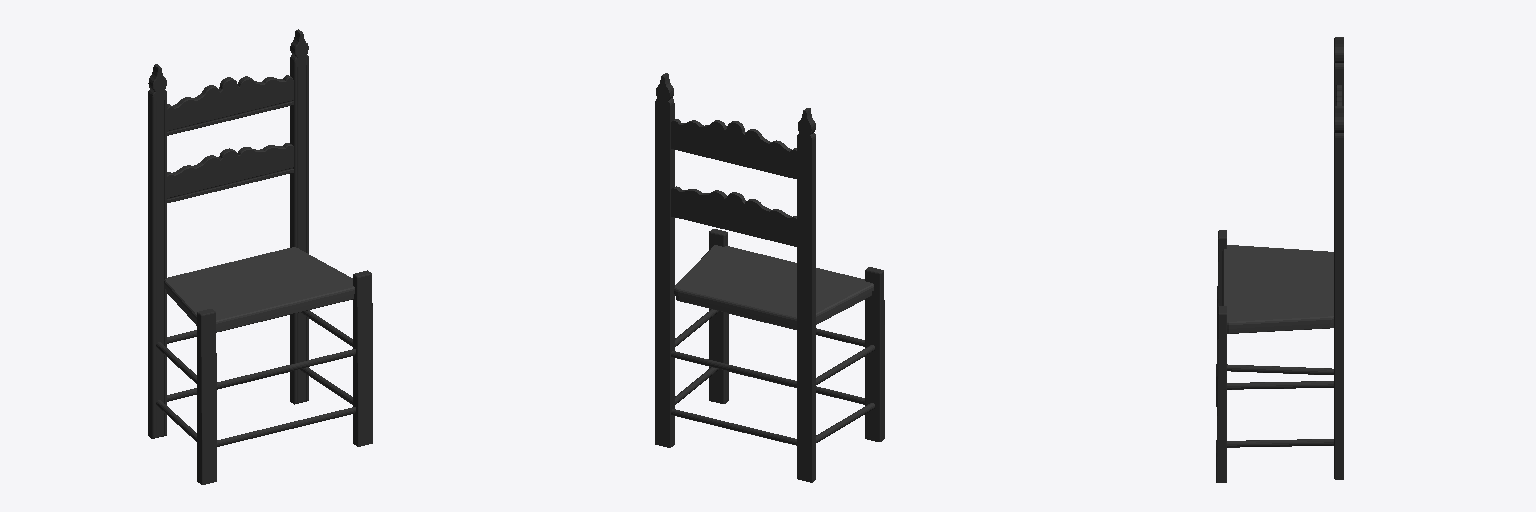
The model's file is cadeira.obj.
The picture shows the model from 3 angles: view 1: azimuth 30°, elevation 25°; view 2: azimuth 150°, elevation 25°; view 3: azimuth 270°, elevation 25°; orthographic projection.
Parts seen in each view (by area): view 1: Mesh_cadeira2; view 2: Mesh_cadeira2; view 3: Mesh_cadeira2.
Part boxes in pixels (x1,y1,x2,y2): Mesh_cadeira2: (148,29,372,484); Mesh_cadeira2: (655,73,884,482); Mesh_cadeira2: (1216,37,1343,482).
Size of the model in its own units: 0.6504 by 1.34 by 0.4199.